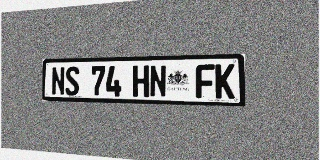4: (106, 66, 121, 97)
7: (91, 66, 105, 96)
F: (196, 64, 215, 98)
H: (133, 65, 149, 97)
K: (215, 64, 235, 99)
N: (150, 65, 167, 97), (51, 67, 65, 95)
S: (65, 66, 79, 96)
